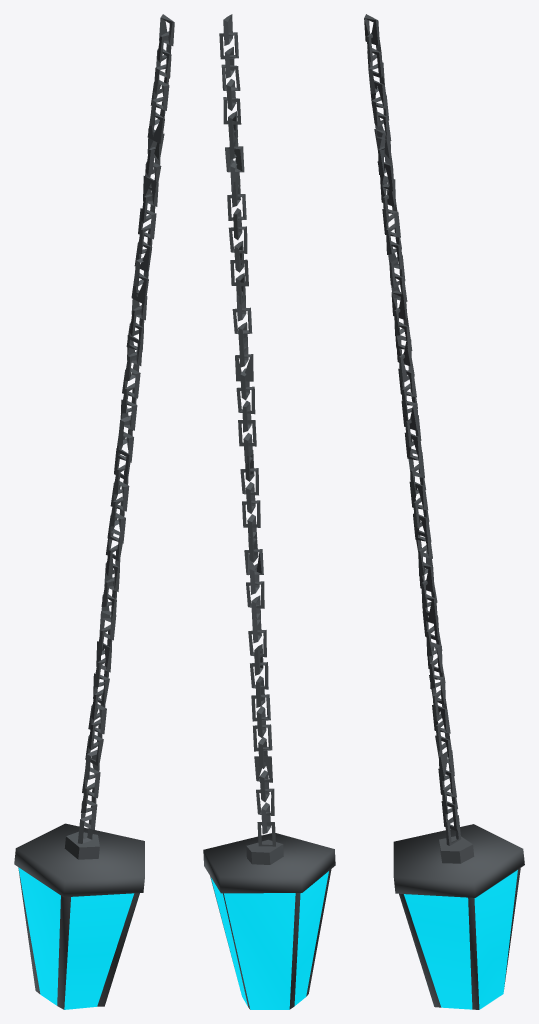
File: Lamp3.glb
3 renders of one model, left to right at view 1: azimuth 90°, elevation 25°; view 2: azimuth 210°, elevation 25°; view 3: azimuth 270°, elevation 25°, orthographic. The views are drawn at different scales.
Parts seen in each view (by area): view 1: Lamp2; view 2: Lamp2; view 3: Lamp2.
Part boxes in pixels (x1=…): Lamp2: x1=14, y1=14, x2=174, y2=1009; Lamp2: x1=203, y1=14, x2=335, y2=1009; Lamp2: x1=364, y1=14, x2=524, y2=1009.
Size of the model in its own units: 1.8 by 14.24 by 2.12.
